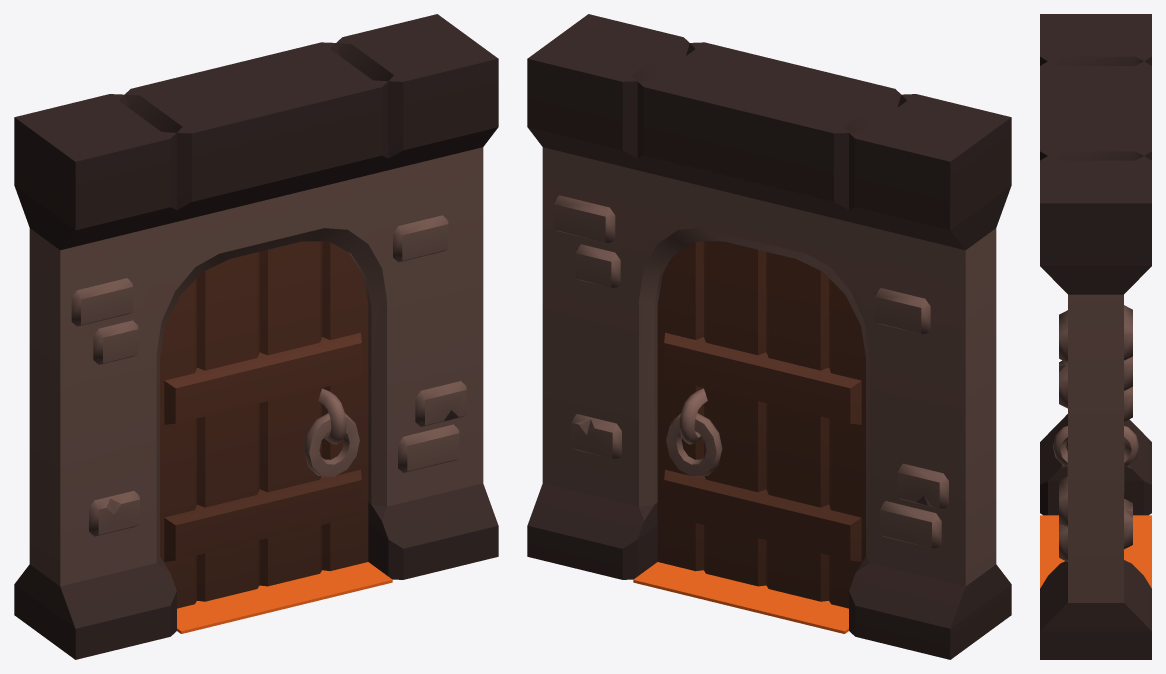
File: door.fbx
The picture shows the model from 3 angles, left to right: view 1: azimuth 30°, elevation 25°; view 2: azimuth 150°, elevation 25°; view 3: azimuth 270°, elevation 25°; orthographic projection. The views are drawn at different scales.
Parts seen in each view (by area): view 1: door, Door; view 2: door, Door; view 3: door, Door.
Part boxes in pixels (x1=…): door: x1=14, y1=14, x2=498, y2=659; Door: x1=160, y1=241, x2=368, y2=608; door: x1=527, y1=14, x2=1011, y2=659; Door: x1=657, y1=241, x2=865, y2=608; door: x1=1040, y1=14, x2=1151, y2=659; Door: x1=1052, y1=426, x2=1139, y2=493.
Size of the model in its own units: 4 by 4.5 by 1.
